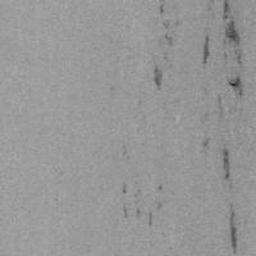Inclusion: (202, 0, 247, 99), (152, 0, 180, 92), (122, 183, 164, 227), (229, 210, 238, 256), (221, 146, 232, 180), (216, 93, 227, 120), (122, 142, 132, 161), (201, 137, 212, 148), (157, 183, 164, 192)
